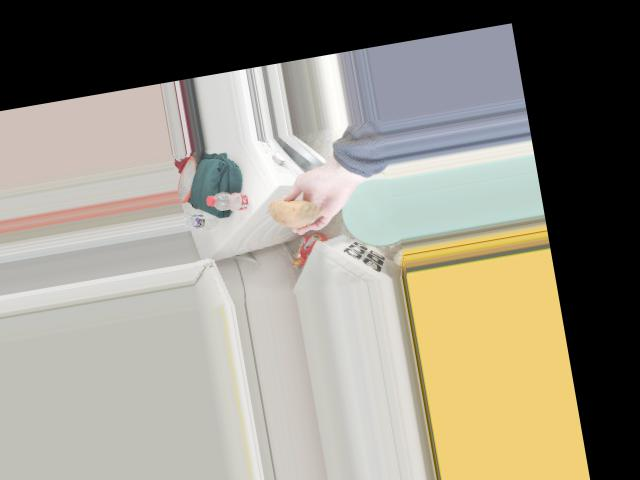sweet_potato: (266, 195, 327, 230)
